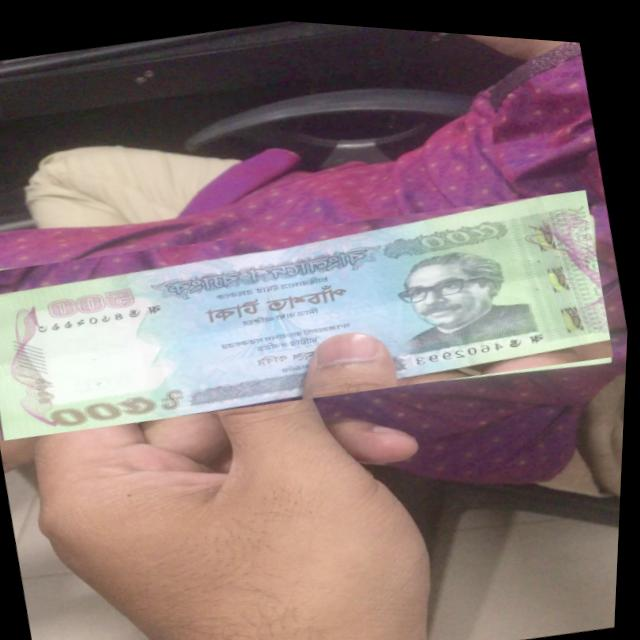Taka: (0, 145, 622, 475)
